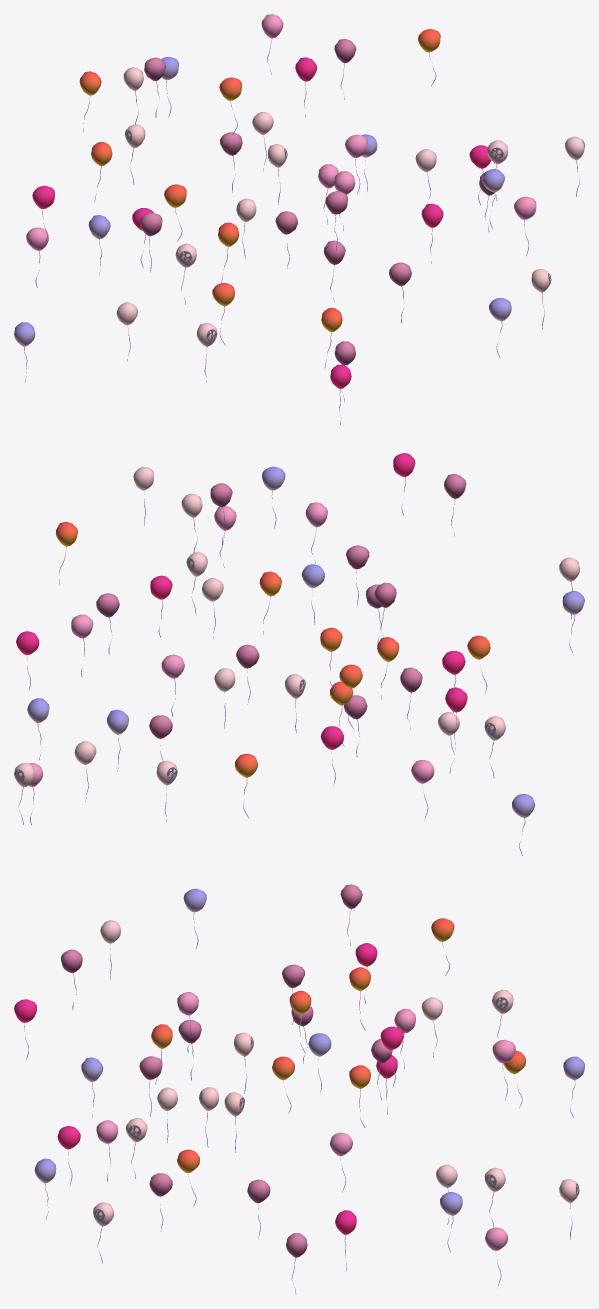
File: balloon_group01.glb
3 views of the same model, one above another, from view 1: azimuth 30°, elevation 25°; view 2: azimuth 150°, elevation 25°; view 3: azimuth 270°, elevation 25° (orthographic). The views are drawn at different scales.
Visible parts, largest first — view 1: Balloon_Spiral2.062; view 2: Balloon_Spiral2.062; view 3: Balloon_Spiral2.062.
Boxes of the visible parts, x1,y1,x2,y2 form: Balloon_Spiral2.062: (14, 14, 584, 424); Balloon_Spiral2.062: (14, 453, 584, 855); Balloon_Spiral2.062: (14, 884, 584, 1294).
Size of the model in its own units: 44.29 by 25.75 by 44.32.
1 material, 1 textured.
